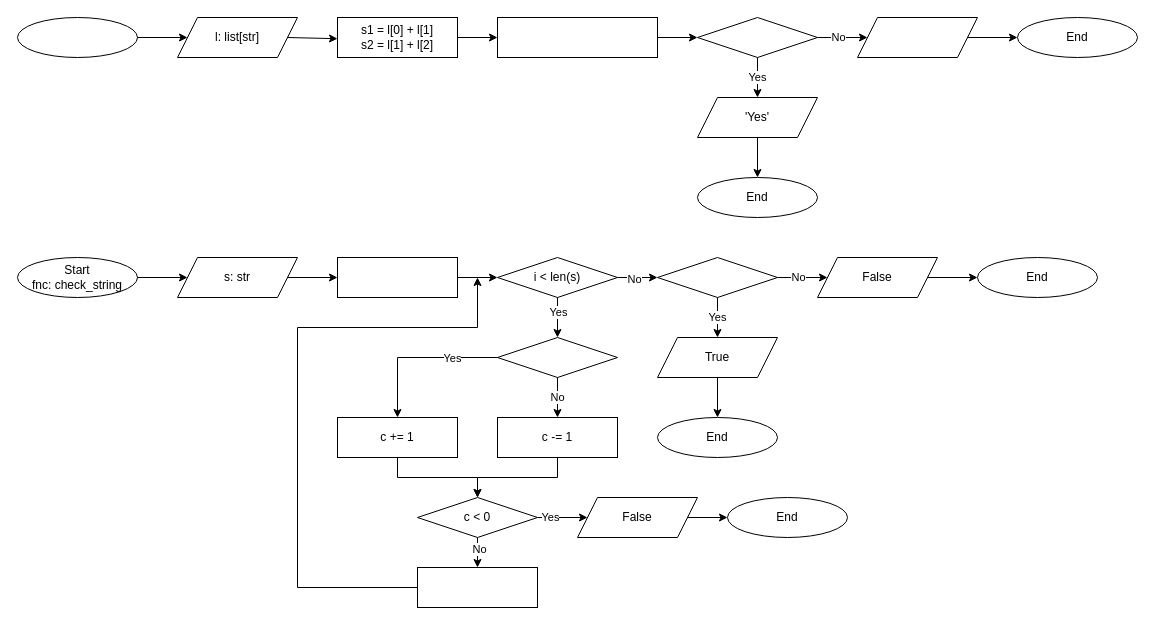
Image size: 1155x625. Some labels were removed from this diagram. Here are the shapes that lost their labels. From the top down, the centre of each, then its label:
the point at 77,37: Start
the point at 577,37: c1 = check_string(s1) c2 = check_string(s2)
the point at 757,37: c1 or c2
the point at 917,37: 'No'
the point at 397,277: i = 0 c = 0
the point at 717,277: c == 0
the point at 557,357: s[i] == '('
the point at 477,587: i += 1
